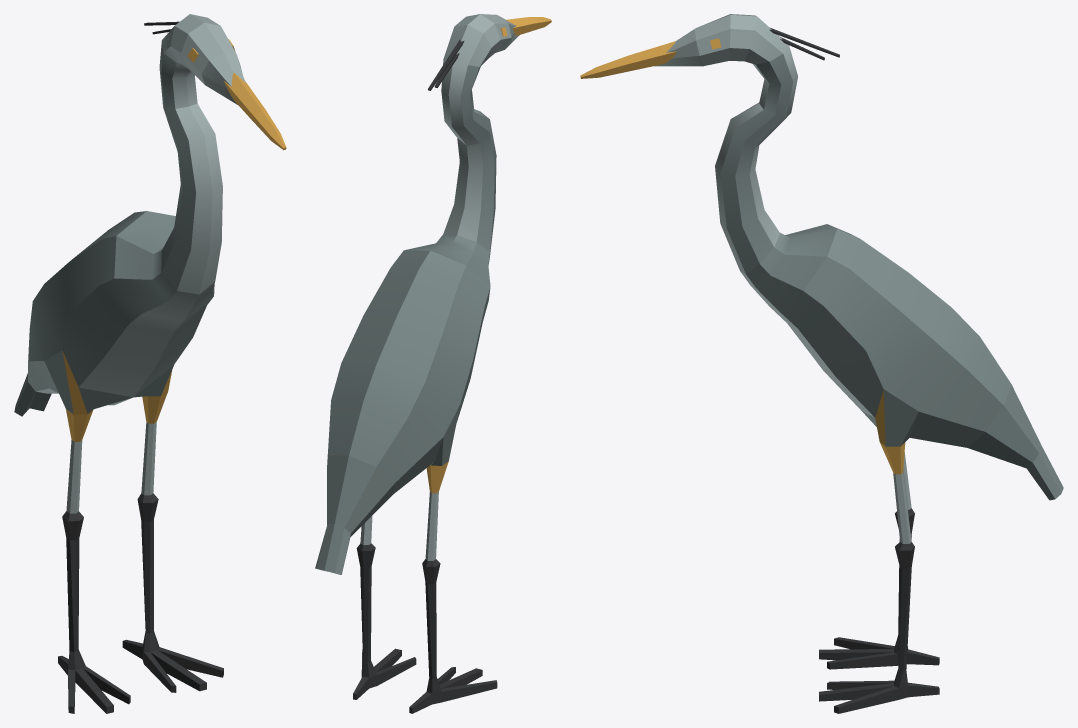
The model's file is heron_gris.glb.
3 views of the same model, side by side, from view 1: azimuth 30°, elevation 25°; view 2: azimuth 150°, elevation 25°; view 3: azimuth 270°, elevation 25° (orthographic). The views are drawn at different scales.
Visible parts, largest first — view 1: Geo_Heron; view 2: Geo_Heron; view 3: Geo_Heron.
Part boxes in pixels (x1=…): Geo_Heron: x1=14, y1=14, x2=286, y2=713; Geo_Heron: x1=315, y1=14, x2=551, y2=713; Geo_Heron: x1=580, y1=14, x2=1063, y2=713.
Size of the model in its own units: 40.27 by 177 by 117.
1 material, 1 textured.
